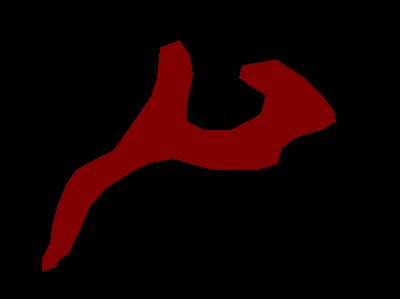fire: (42, 40, 335, 270)
